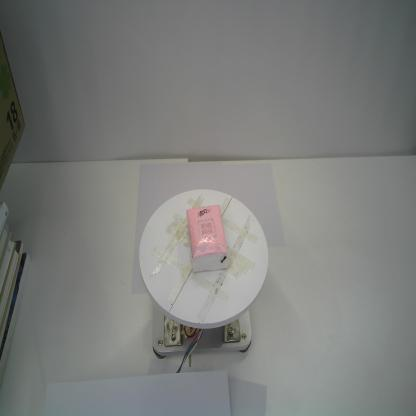Tissue: (186, 202, 229, 277)
